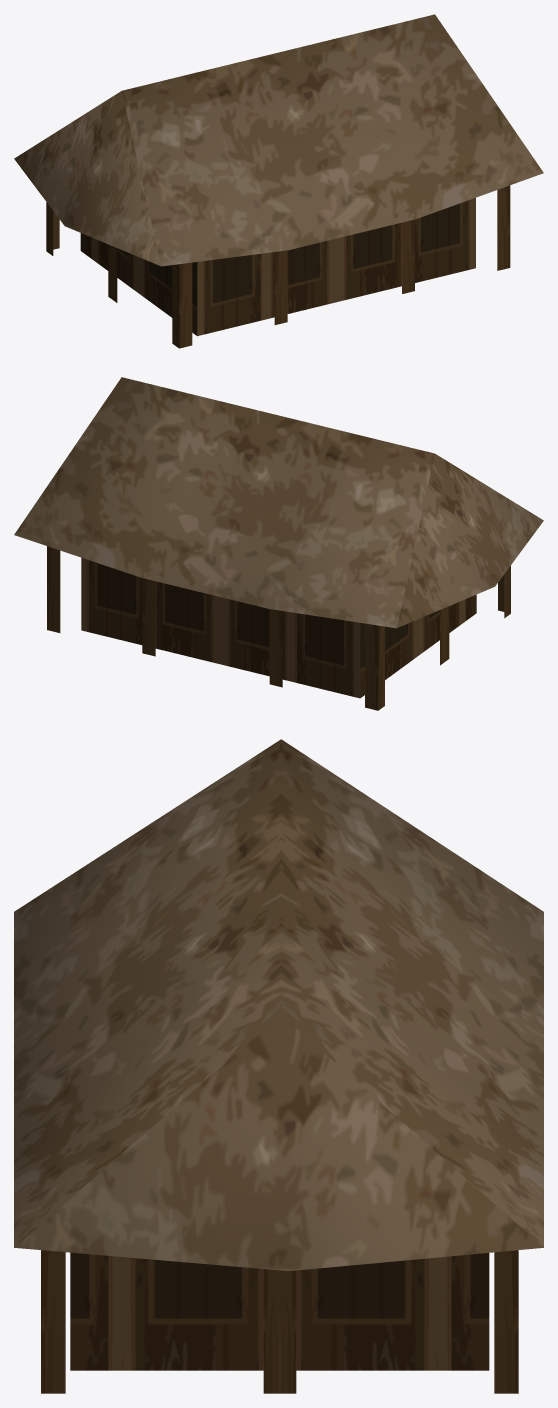
Rendered from SM_Building_Rural_01.fbx.
3 views of the same model, one above another, from view 1: azimuth 30°, elevation 25°; view 2: azimuth 150°, elevation 25°; view 3: azimuth 270°, elevation 25° (orthographic). The views are drawn at different scales.
Visible parts, largest first — view 1: SM_Building_Rural_01; view 2: SM_Building_Rural_01; view 3: SM_Building_Rural_01.
Part boxes in pixels (bbox=[...]): SM_Building_Rural_01: bbox=[14, 14, 543, 348]; SM_Building_Rural_01: bbox=[14, 377, 543, 710]; SM_Building_Rural_01: bbox=[14, 739, 543, 1393].
Bounding box in the file's own units: 13.64 × 6.37 × 8.22.
